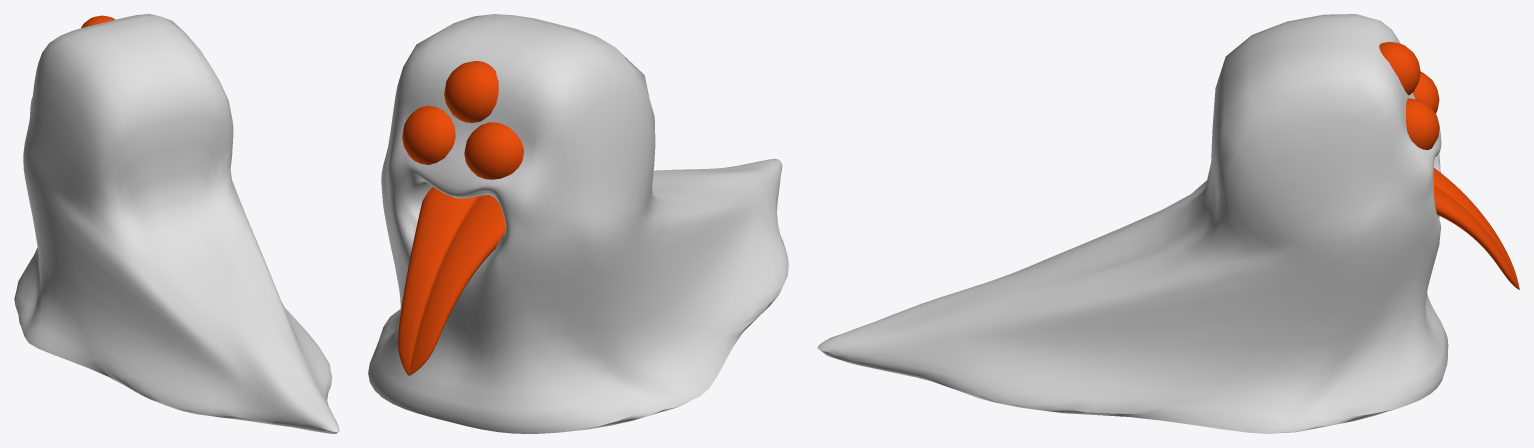
Rendered from _R_monster9.fbx.
3 views of the same model, side by side, from view 1: azimuth 30°, elevation 25°; view 2: azimuth 150°, elevation 25°; view 3: azimuth 270°, elevation 25° (orthographic). The views are drawn at different scales.
Visible parts, largest first — view 1: Sphere_006; view 2: Sphere_006; view 3: Sphere_006.
Boxes of the visible parts, box(x1,y1,x2,y2) form: Sphere_006: box(14, 14, 339, 433); Sphere_006: box(368, 14, 788, 433); Sphere_006: box(817, 14, 1519, 433).
Size of the model in its own units: 1337 by 643 by 697.
